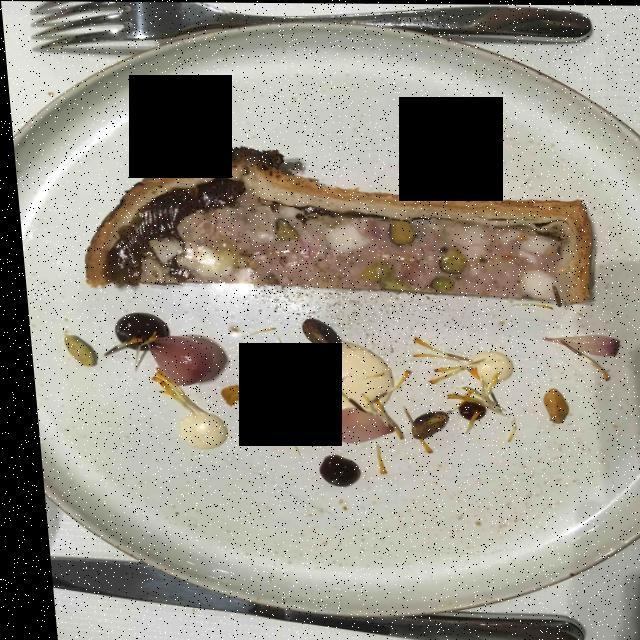bread: (84, 152, 587, 302)
cream: (291, 344, 389, 424)
meat-terrine-pate: (68, 148, 595, 312)
onions: (135, 332, 497, 455)
